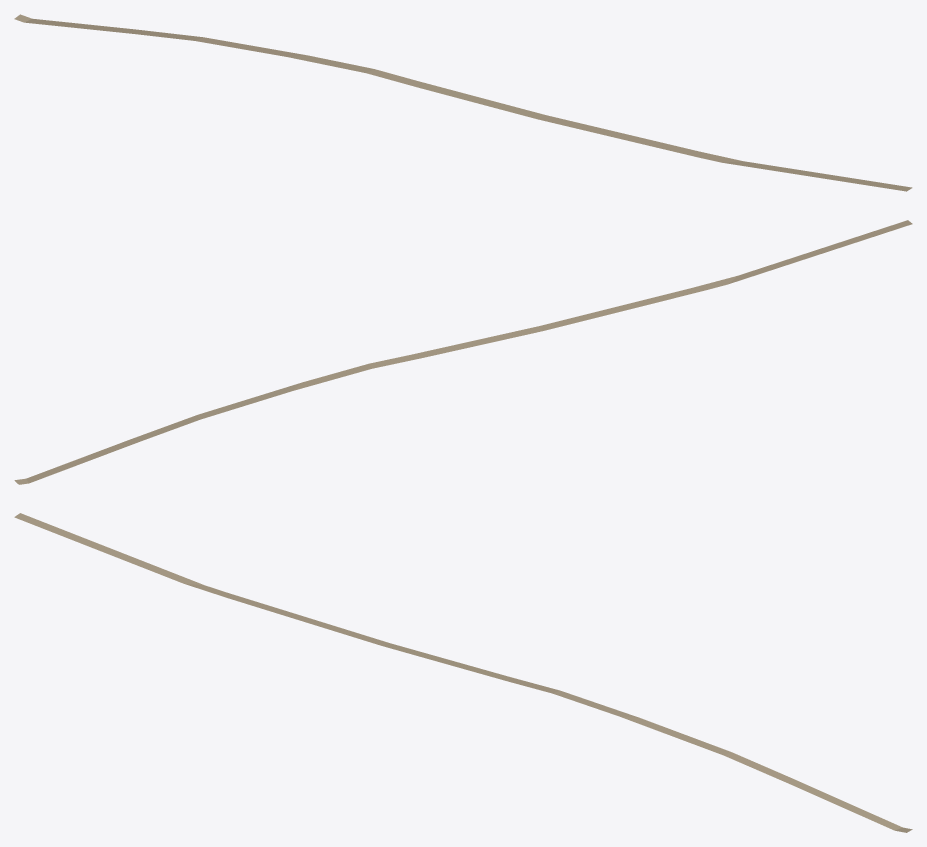
The model's file is farm_-27_-33_track.glb.
3 renders of one model, top to bottom at view 1: azimuth 90°, elevation 25°; view 2: azimuth 150°, elevation 25°; view 3: azimuth 270°, elevation 25°, orthographic. The views are drawn at different scales.
Parts seen in each view (by area): view 1: geometry_0; view 2: geometry_0; view 3: geometry_0.
Part boxes in pixels (box(x1,y1,x2,y2)): geometry_0: box(14, 14, 912, 191); geometry_0: box(14, 220, 912, 484); geometry_0: box(14, 513, 912, 832).
Bounding box in the file's own units: 167 × 22.78 × 255.
